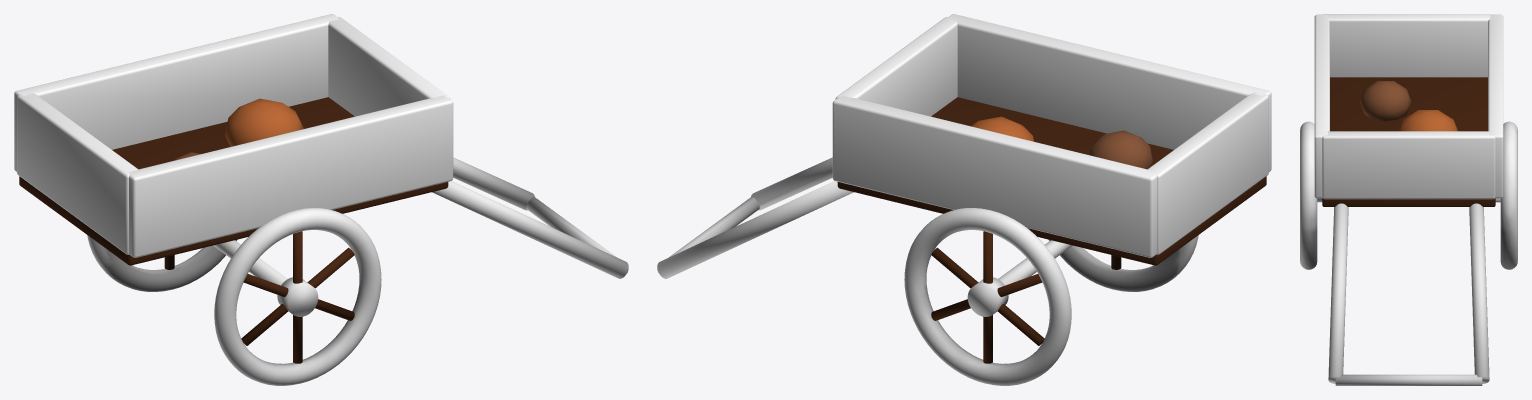
Rendered from wooden-cart.obj.
3 views of the same model, side by side, from view 1: azimuth 30°, elevation 25°; view 2: azimuth 150°, elevation 25°; view 3: azimuth 270°, elevation 25° (orthographic). The views are drawn at different scales.
Parts seen in each view (by area): view 1: wooden-cart; view 2: wooden-cart; view 3: wooden-cart.
Part boxes in pixels (left/top/right/bottom): wooden-cart: left=14, top=14, right=628, bottom=385; wooden-cart: left=657, top=14, right=1271, bottom=385; wooden-cart: left=1300, top=14, right=1517, bottom=385.
Bounding box in the file's own units: 2.39 × 1.08 × 1.13.
